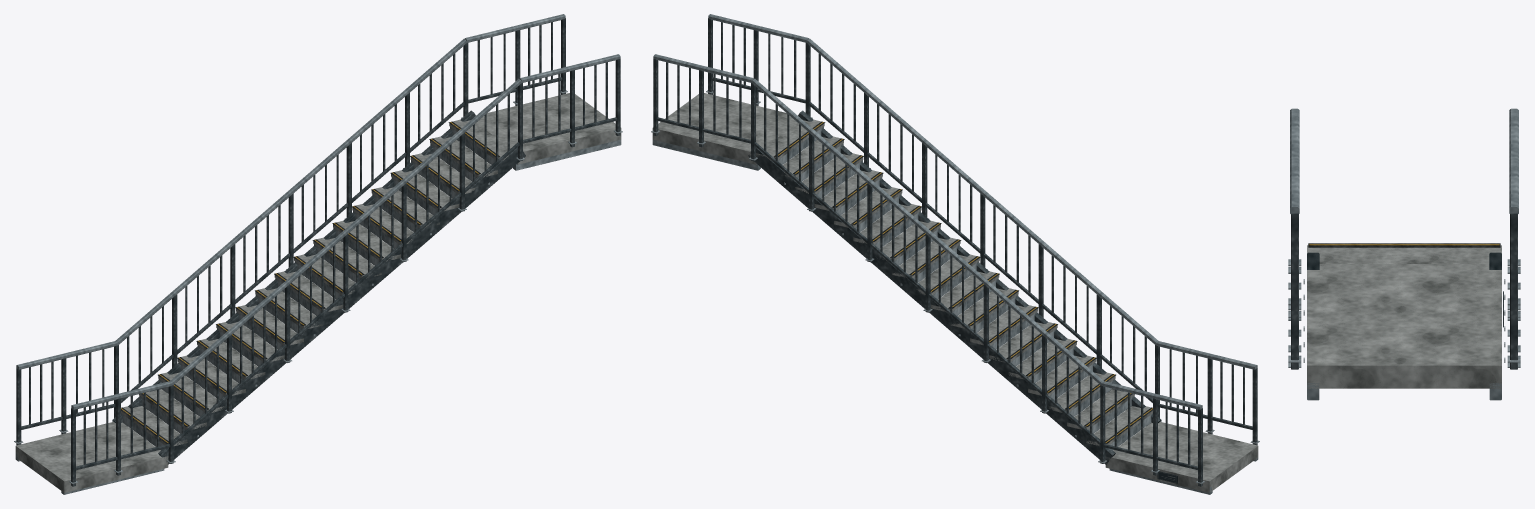
Rendered from PROJECT_Z_Staircase_Railing_Kit.glb.
3 renders of one model, left to right at view 1: azimuth 30°, elevation 25°; view 2: azimuth 150°, elevation 25°; view 3: azimuth 270°, elevation 25°, orthographic. The views are drawn at different scales.
Visible parts, largest first — view 1: Landing_Lower_1500mm, Stringer_Right_FullRise, Landing_Upper_1500mm, Handrail_Right_Stair, Handrail_Left_Stair, BaseRail_Right_Stair, BaseRail_Left_Stair, Stringer_Left_FullRise, Tread_09_280mm, Tread_15_280mm, Tread_01_280mm, Tread_02_280mm (+15 smaller); view 2: Landing_Lower_1500mm, Stringer_Left_FullRise, Landing_Upper_1500mm, Handrail_Left_Stair, Handrail_Right_Stair, BaseRail_Left_Stair, BaseRail_Right_Stair, Stringer_Right_FullRise, Tread_09_280mm, Tread_15_280mm, Tread_02_280mm, Tread_01_280mm (+15 smaller); view 3: Landing_Upper_1500mm, Tread_18_280mm, Newel_Left_Landing_04, Newel_Right_Landing_04, Handrail_Left_UpperLanding, Handrail_Right_UpperLanding, GripNosing_18, SafetyMark_18.
Part boxes in pixels (left/top/right/bottom): Landing_Lower_1500mm: left=15, top=422, right=168, bottom=492; Stringer_Right_FullRise: left=158, top=147, right=525, bottom=464; Landing_Upper_1500mm: left=476, top=93, right=621, bottom=164; Handrail_Right_Stair: left=170, top=79, right=521, bottom=384; Handrail_Left_Stair: left=115, top=39, right=466, bottom=344; BaseRail_Right_Stair: left=173, top=142, right=519, bottom=444; BaseRail_Left_Stair: left=121, top=102, right=464, bottom=402; Stringer_Left_FullRise: left=112, top=110, right=475, bottom=425; Tread_09_280mm: left=274, top=271, right=342, bottom=311; Tread_15_280mm: left=391, top=170, right=459, bottom=210; Tread_01_280mm: left=121, top=406, right=187, bottom=446; Tread_02_280mm: left=139, top=389, right=206, bottom=429; Landing_Lower_1500mm: left=1105, top=422, right=1258, bottom=492; Stringer_Left_FullRise: left=748, top=147, right=1115, bottom=464; Landing_Upper_1500mm: left=652, top=93, right=797, bottom=164; Handrail_Left_Stair: left=752, top=79, right=1103, bottom=384; Handrail_Right_Stair: left=807, top=39, right=1158, bottom=344; BaseRail_Left_Stair: left=754, top=142, right=1100, bottom=444; BaseRail_Right_Stair: left=809, top=102, right=1152, bottom=402; Stringer_Right_FullRise: left=798, top=110, right=1161, bottom=425; Tread_09_280mm: left=931, top=271, right=999, bottom=311; Tread_15_280mm: left=814, top=170, right=882, bottom=210; Tread_02_280mm: left=1067, top=389, right=1134, bottom=429; Tread_01_280mm: left=1086, top=406, right=1152, bottom=445; Landing_Upper_1500mm: left=1307, top=264, right=1501, bottom=388; Tread_18_280mm: left=1307, top=245, right=1501, bottom=263; Newel_Left_Landing_04: left=1510, top=213, right=1517, bottom=367; Newel_Right_Landing_04: left=1291, top=213, right=1298, bottom=367; Handrail_Left_UpperLanding: left=1509, top=110, right=1518, bottom=213; Handrail_Right_UpperLanding: left=1290, top=110, right=1299, bottom=213; GripNosing_18: left=1308, top=243, right=1500, bottom=247; SafetyMark_18: left=1309, top=244, right=1499, bottom=245.
Size of the model in its own units: 8.04 by 4.25 by 1.45.
Materials: 6 (6 with a texture image).
